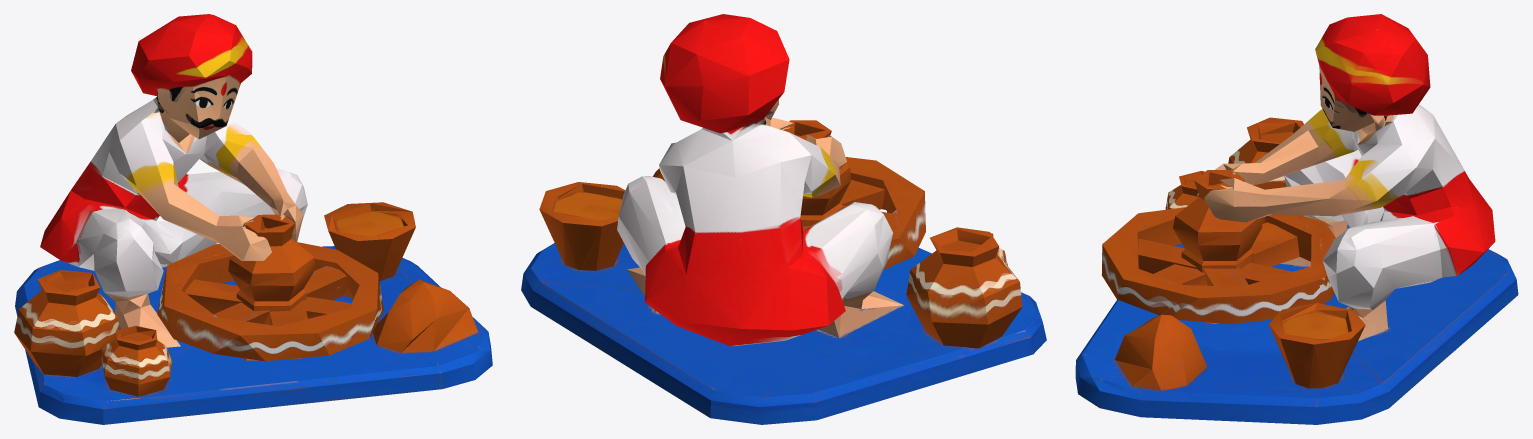
File: potter.glb
The picture shows the model from 3 angles, left to right: view 1: azimuth 30°, elevation 25°; view 2: azimuth 150°, elevation 25°; view 3: azimuth 270°, elevation 25°; orthographic projection. The views are drawn at different scales.
Parts seen in each view (by area): view 1: mesh_000; view 2: mesh_000; view 3: mesh_000.
Boxes of the visible parts, box(x1,y1,x2,y2) form: mesh_000: box(14, 14, 492, 424); mesh_000: box(521, 14, 1046, 424); mesh_000: box(1075, 14, 1518, 424).
Size of the model in its own units: 0.9653 by 0.6426 by 0.855.
1 material, 1 textured.
